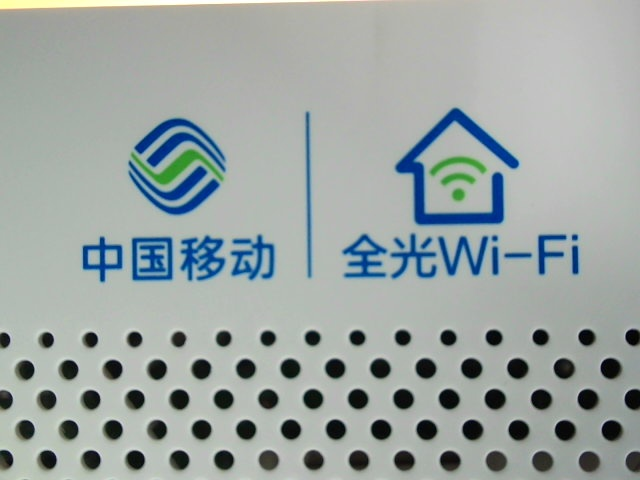BJ_QuanGuangMobile: (77, 106, 587, 278)
